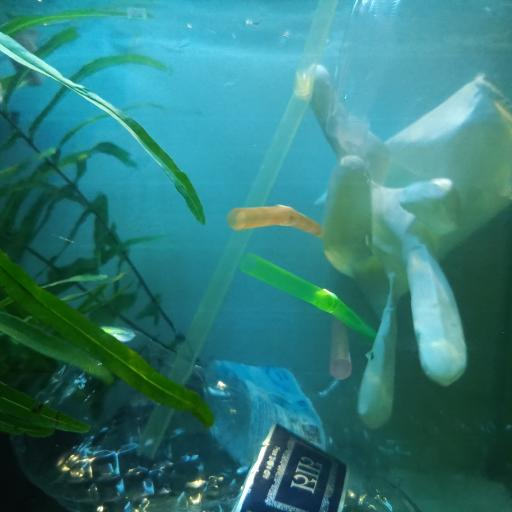glove: (303, 64, 512, 428)
plastic_bottle: (12, 325, 422, 512), (191, 358, 487, 466)
plastic_cup: (323, 0, 512, 197)
plastic_straw: (136, 0, 336, 455), (239, 252, 375, 337), (228, 204, 326, 238), (326, 329, 352, 381)
